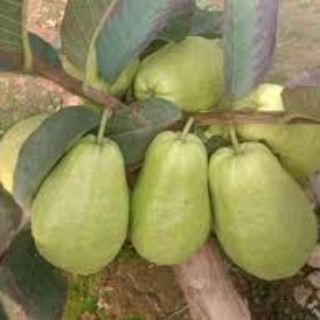oi: (207, 138, 317, 285), (31, 130, 131, 282), (128, 129, 214, 269)
